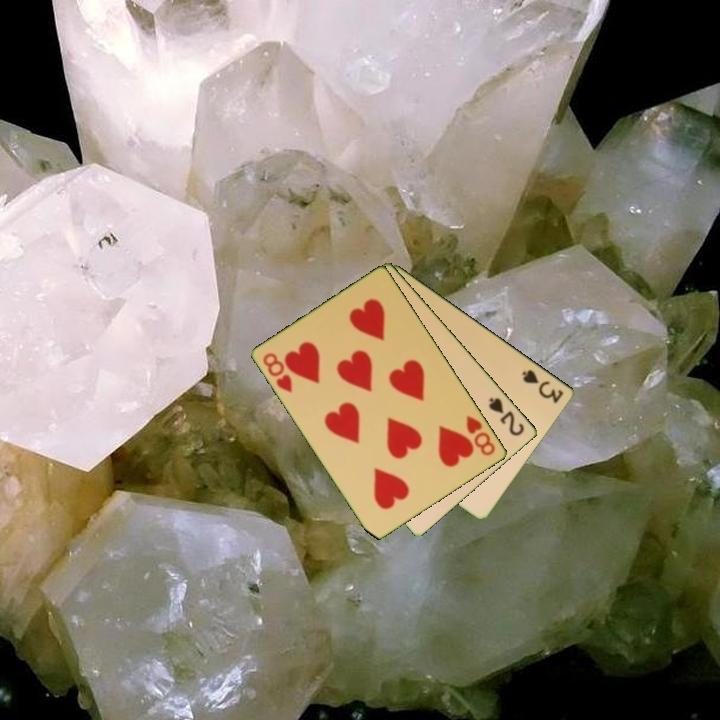2s: (485, 394, 528, 439)
3s: (519, 366, 567, 406)
8h: (463, 412, 499, 459), (260, 349, 296, 396)
